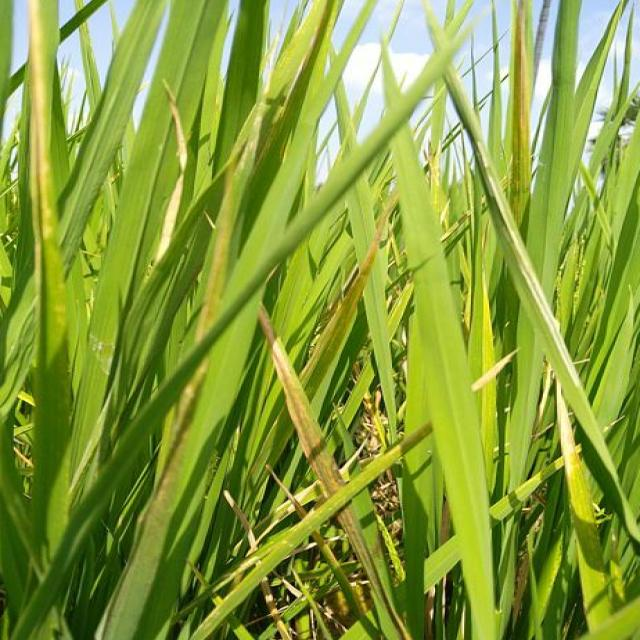Leaf Blight: (446, 83, 593, 420), (31, 0, 54, 296), (151, 79, 187, 268), (352, 421, 432, 498), (555, 377, 585, 503), (223, 490, 259, 557), (267, 465, 308, 519), (472, 348, 519, 393), (262, 579, 295, 640), (254, 501, 296, 542), (339, 437, 368, 483), (312, 530, 341, 570), (296, 481, 324, 507)
Leaf Streak: (195, 2, 330, 345), (298, 192, 399, 381), (259, 304, 341, 497), (147, 356, 209, 536), (337, 507, 413, 640), (506, 0, 531, 212), (371, 527, 388, 563)
